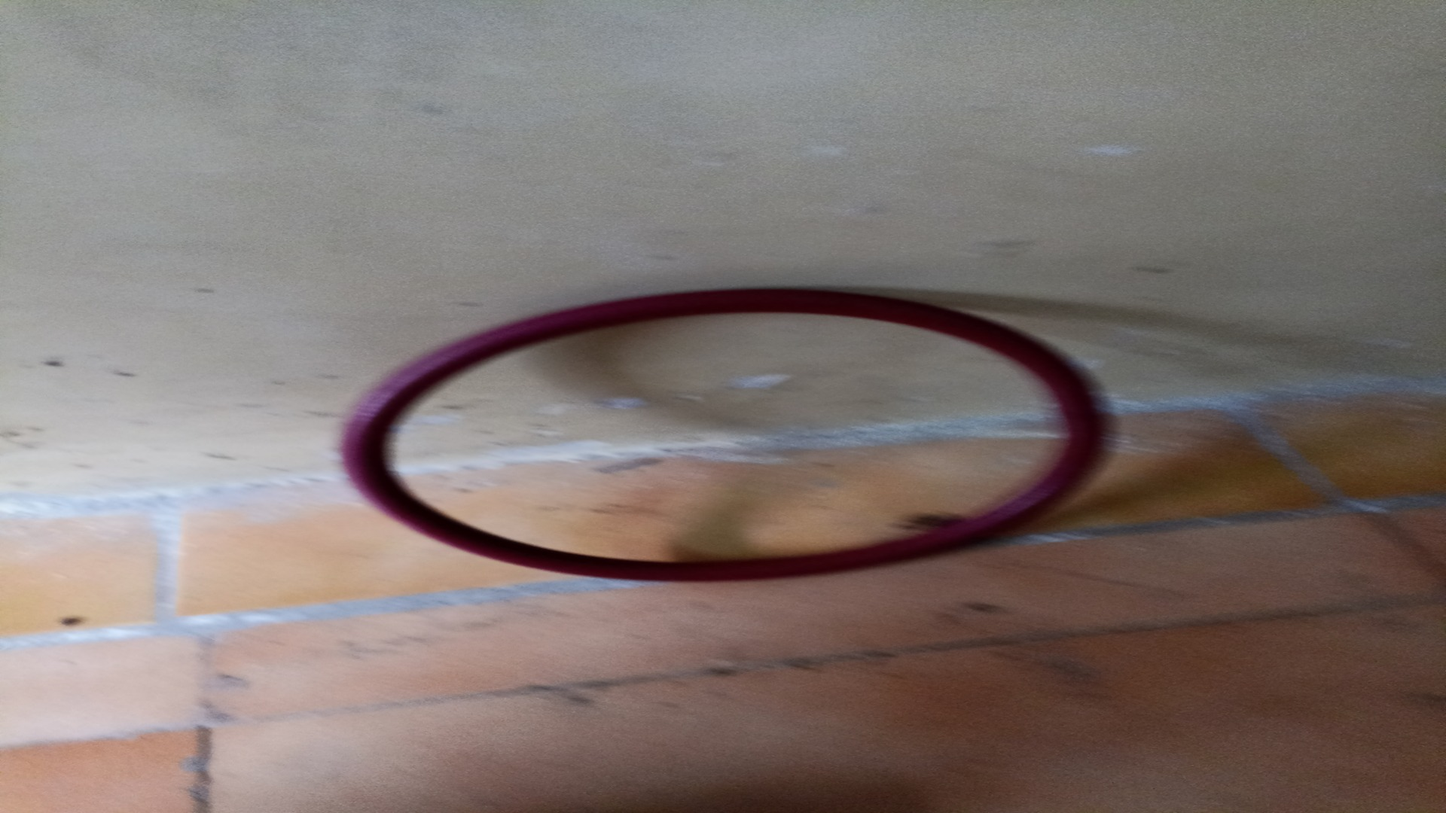Red ring: (347, 291, 1117, 580)
